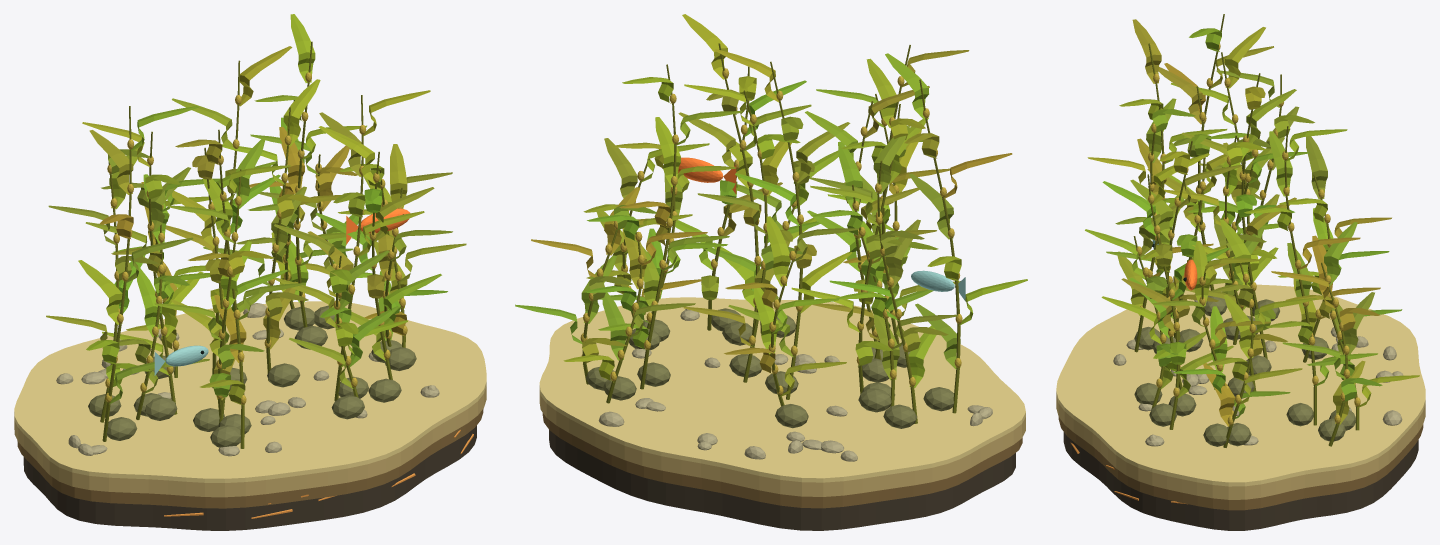
The model's file is kelp.glb.
The picture shows the model from 3 angles, left to right: view 1: azimuth 30°, elevation 25°; view 2: azimuth 150°, elevation 25°; view 3: azimuth 270°, elevation 25°; orthographic projection. The views are drawn at different scales.
Parts seen in each view (by area): view 1: kelp habitat; view 2: kelp habitat; view 3: kelp habitat.
Boxes of the visible parts, x1,y1,x2,y2 form: kelp habitat: (14,14,486,530); kelp habitat: (515,14,1027,530); kelp habitat: (1056,14,1425,530).
Size of the model in its own units: 1.8 by 1.5 by 1.4.
Materials: 1 (1 with a texture image).
